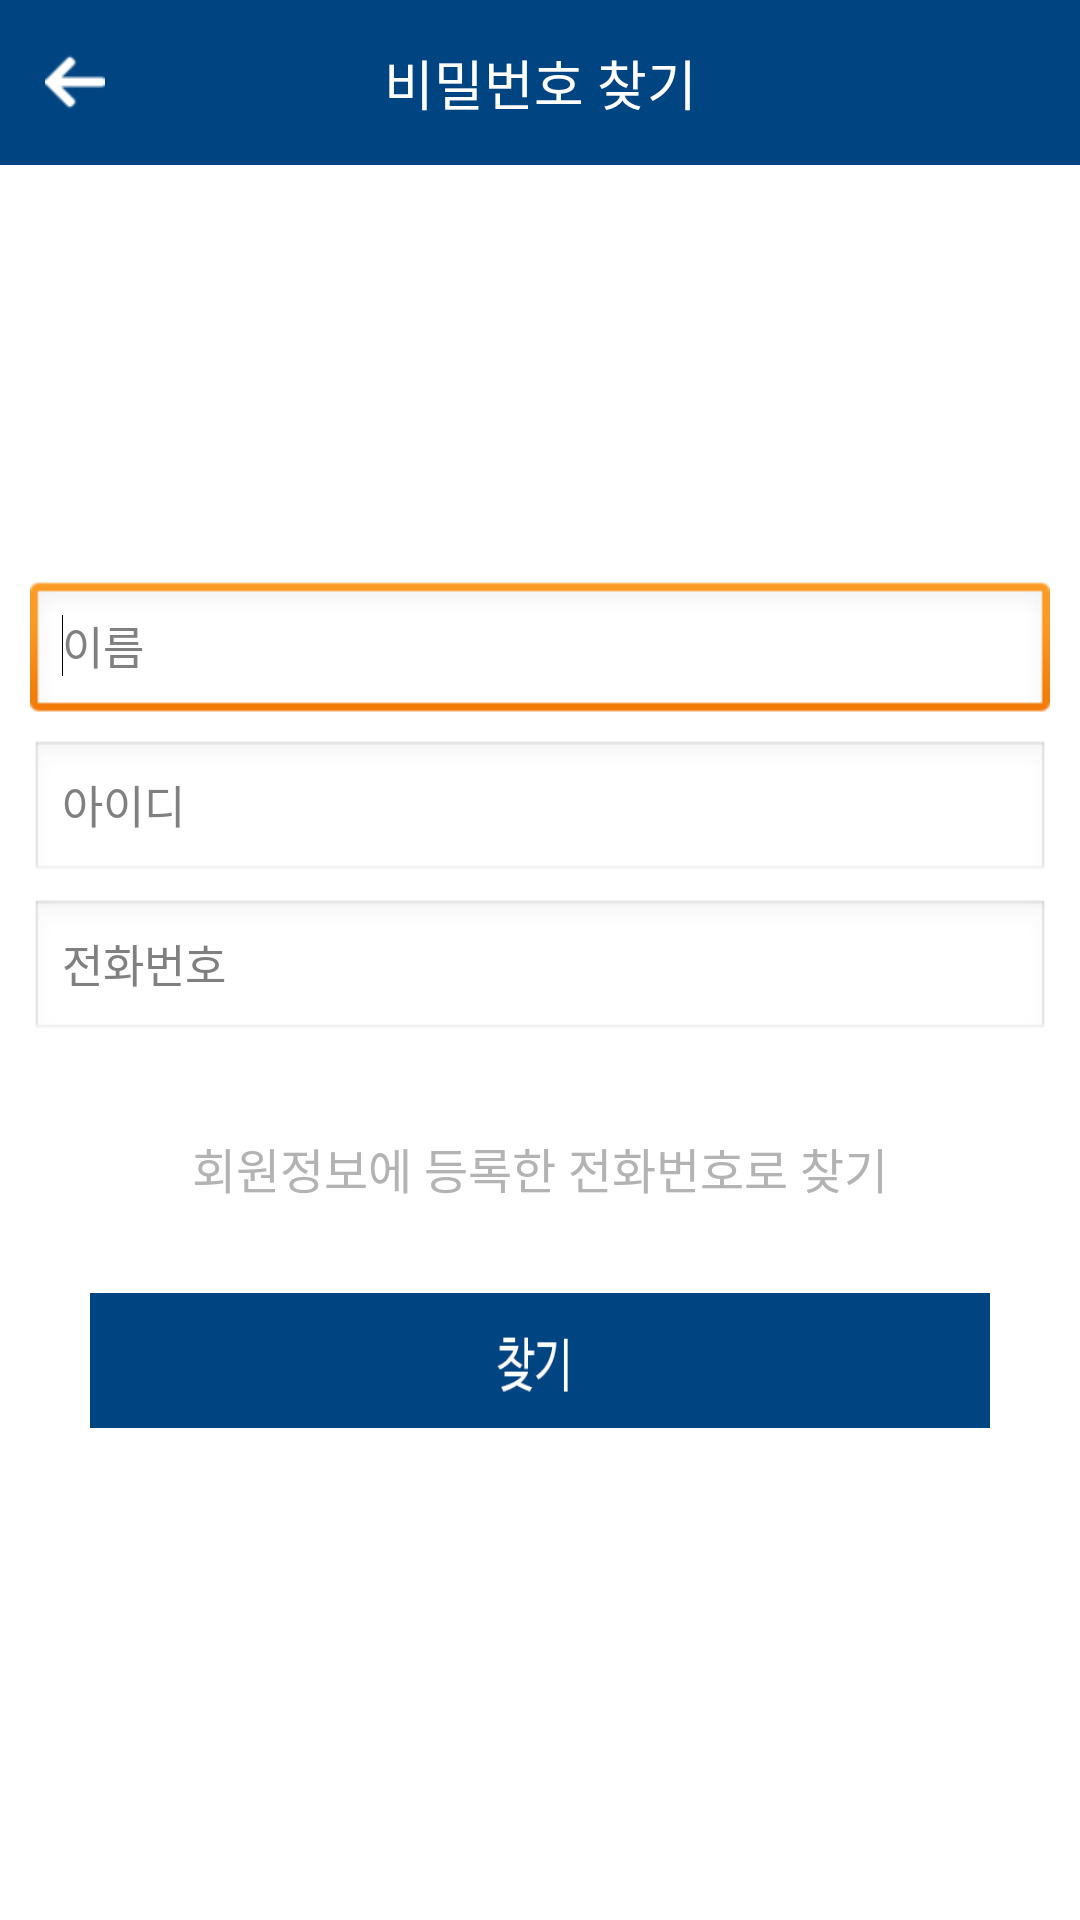

Where icons sit on this 1080×1920 app screen, as bbox(x1, y1, x2, y2):
back: bbox(45, 56, 105, 108)
